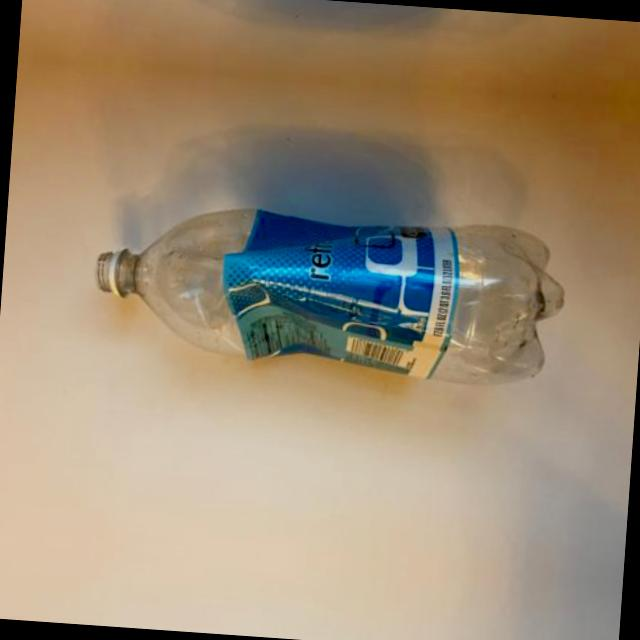Plastic: (81, 199, 578, 402)
